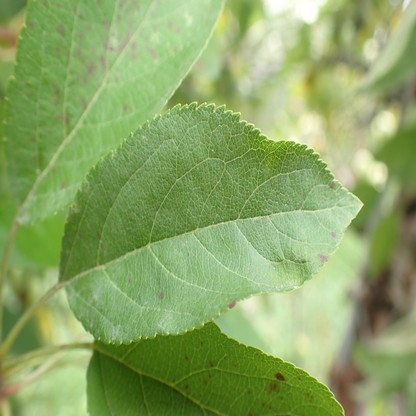powder: (104, 112, 219, 192), (91, 271, 118, 303), (16, 194, 37, 226), (48, 186, 66, 212), (157, 308, 175, 334), (259, 278, 294, 290), (106, 323, 119, 340), (65, 290, 76, 309)
